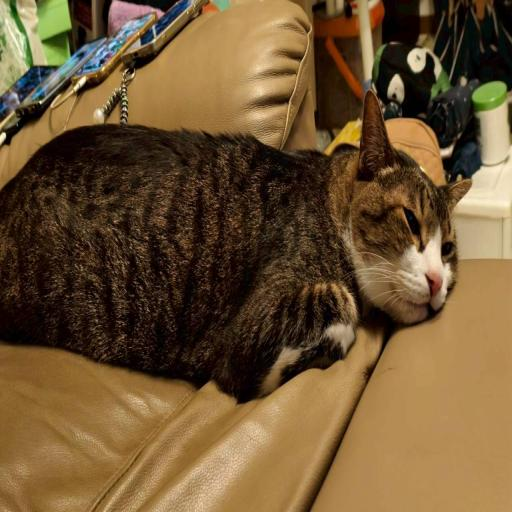cat: (1, 118, 466, 380)
